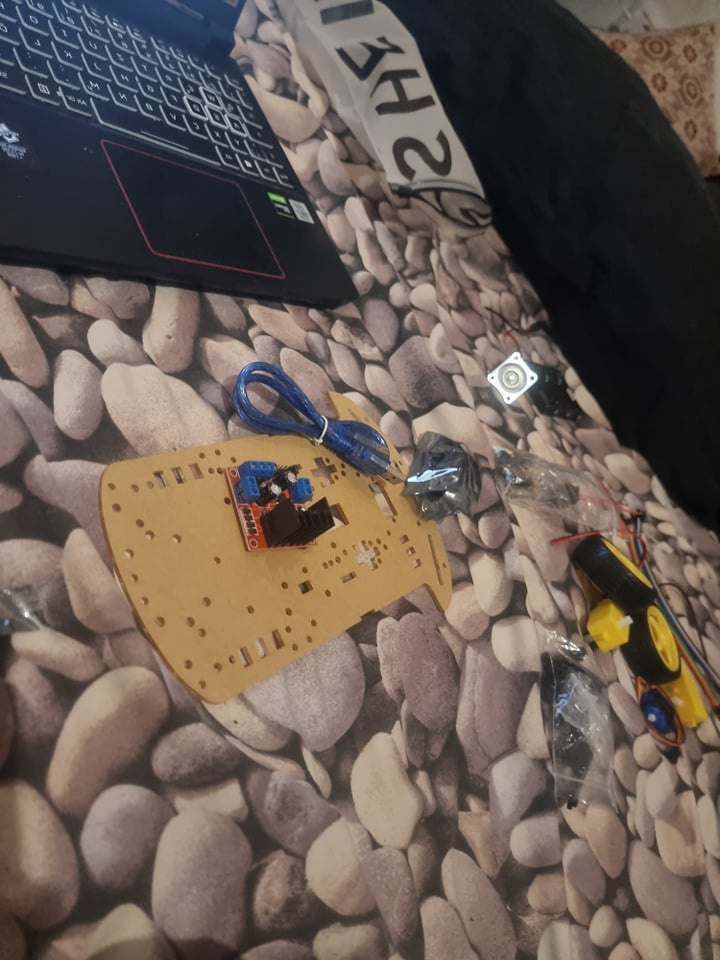BATTERY BOX: (533, 361, 588, 425)
MOTOR: (221, 461, 338, 557)
